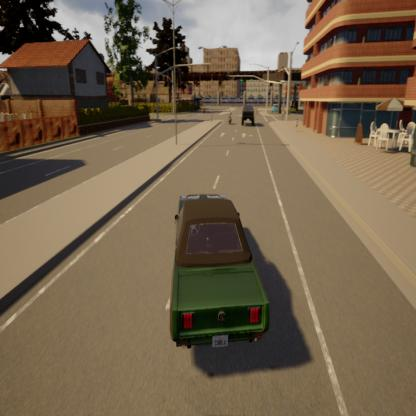Cars: (151, 183, 278, 371), (240, 102, 256, 127)
